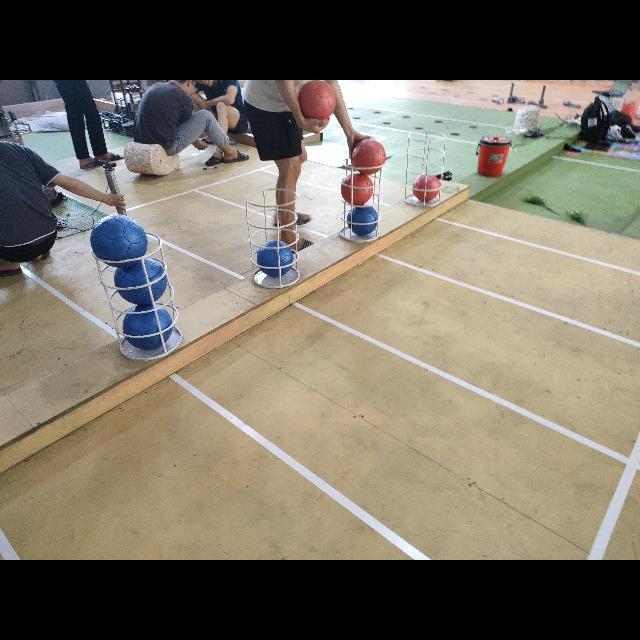B: (92, 214, 146, 268), (122, 302, 174, 350), (114, 255, 166, 302), (258, 240, 294, 276), (347, 208, 378, 236)
R: (297, 81, 335, 121), (352, 138, 386, 176), (342, 174, 372, 206), (414, 173, 438, 204)
